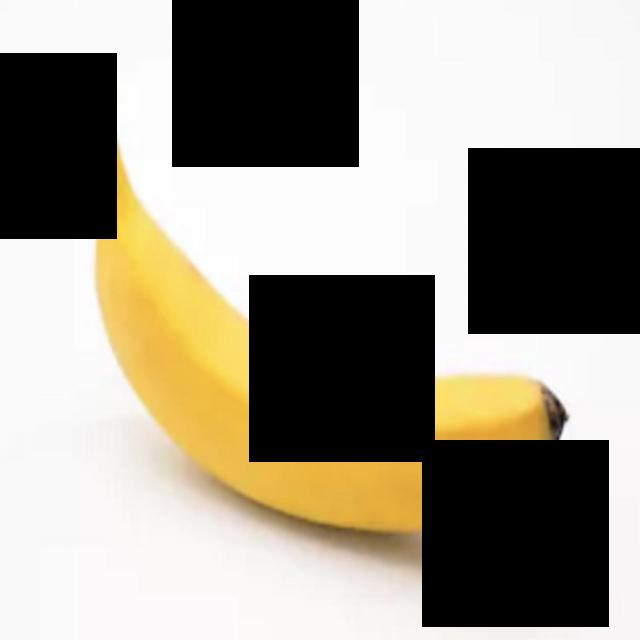banana: (33, 47, 621, 598)
